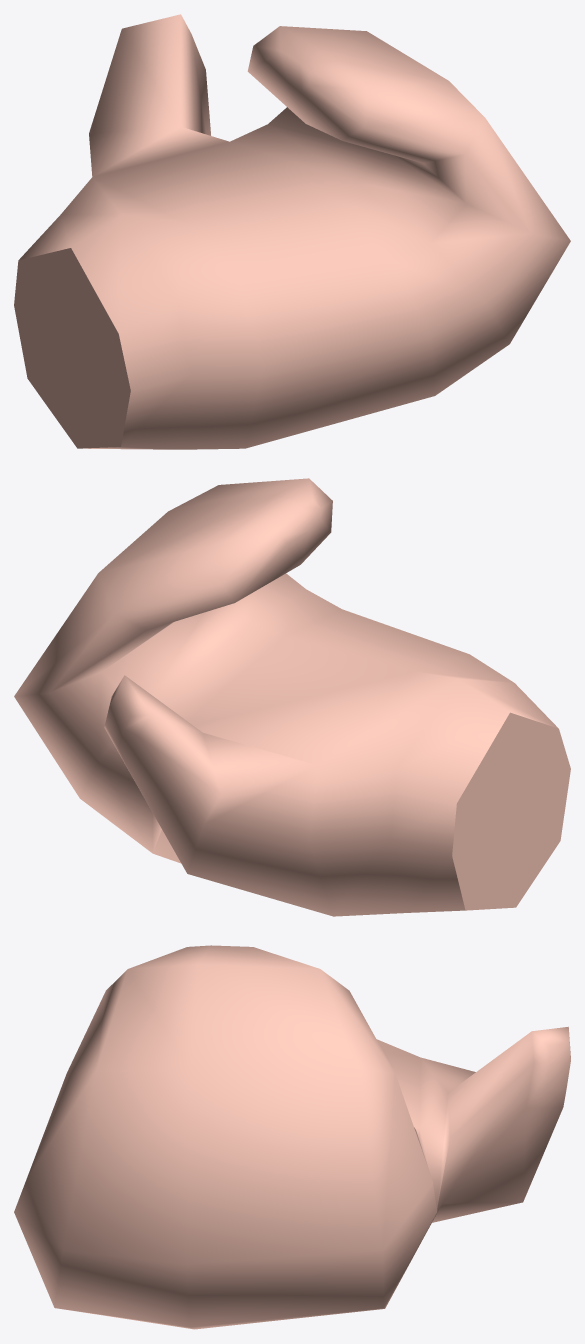
The model's file is Hand_L.FBX.
The picture shows the model from 3 angles, top to bottom: view 1: azimuth 30°, elevation 25°; view 2: azimuth 150°, elevation 25°; view 3: azimuth 270°, elevation 25°; orthographic projection. The views are drawn at different scales.
Visible parts, largest first — view 1: Hand_L001; view 2: Hand_L001; view 3: Hand_L001.
Part boxes in pixels (bbox=[...]): Hand_L001: bbox=[14, 14, 570, 449]; Hand_L001: bbox=[14, 478, 570, 916]; Hand_L001: bbox=[14, 945, 570, 1329].
Bounding box in the file's own units: 6.04 × 6.14 × 4.49.
